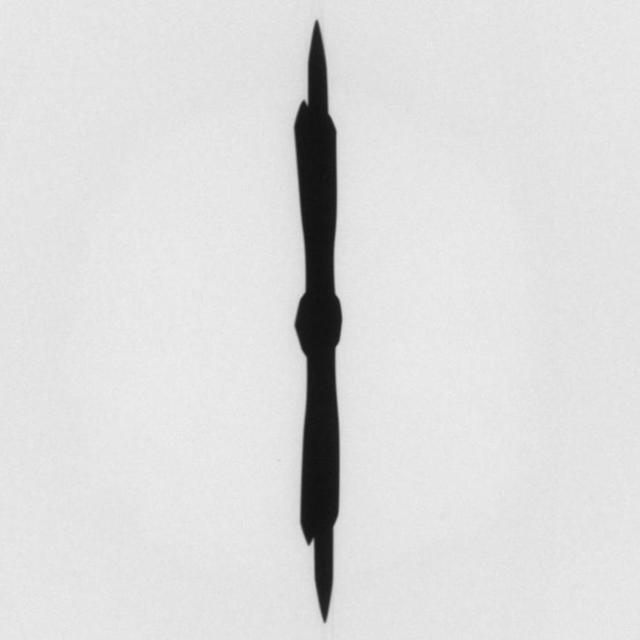shuriken: (273, 16, 364, 622)
